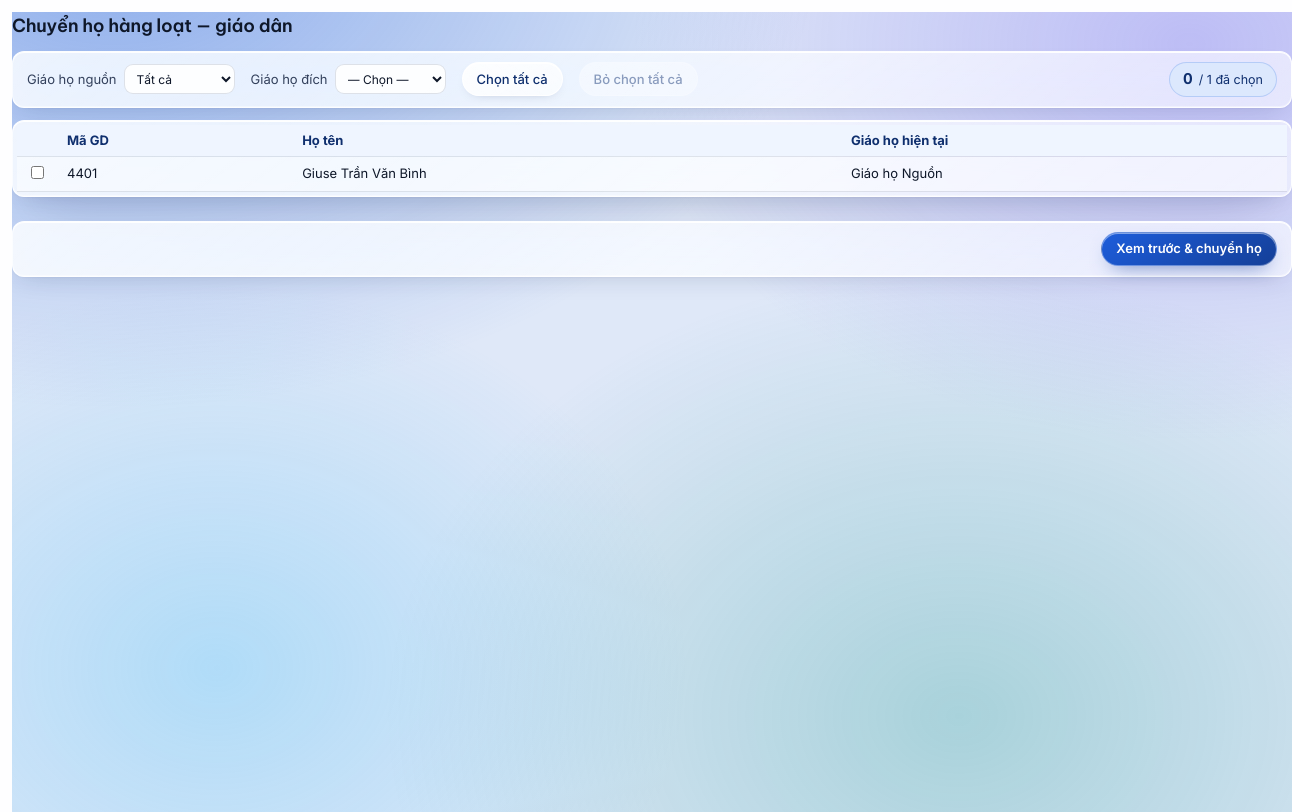
Test case: ChuyenHoGiaoDan › phai xem truoc va xac nhan dung con so truoc khi goi API ghi that
Expected: the text "Giuse Trần Văn Bình" is shown, top-left (292, 156), bottom-right (841, 191)
Click the checkbox named "Chọn Trần Văn Bình": (38, 172) top-left (31, 166), bottom-right (44, 179)
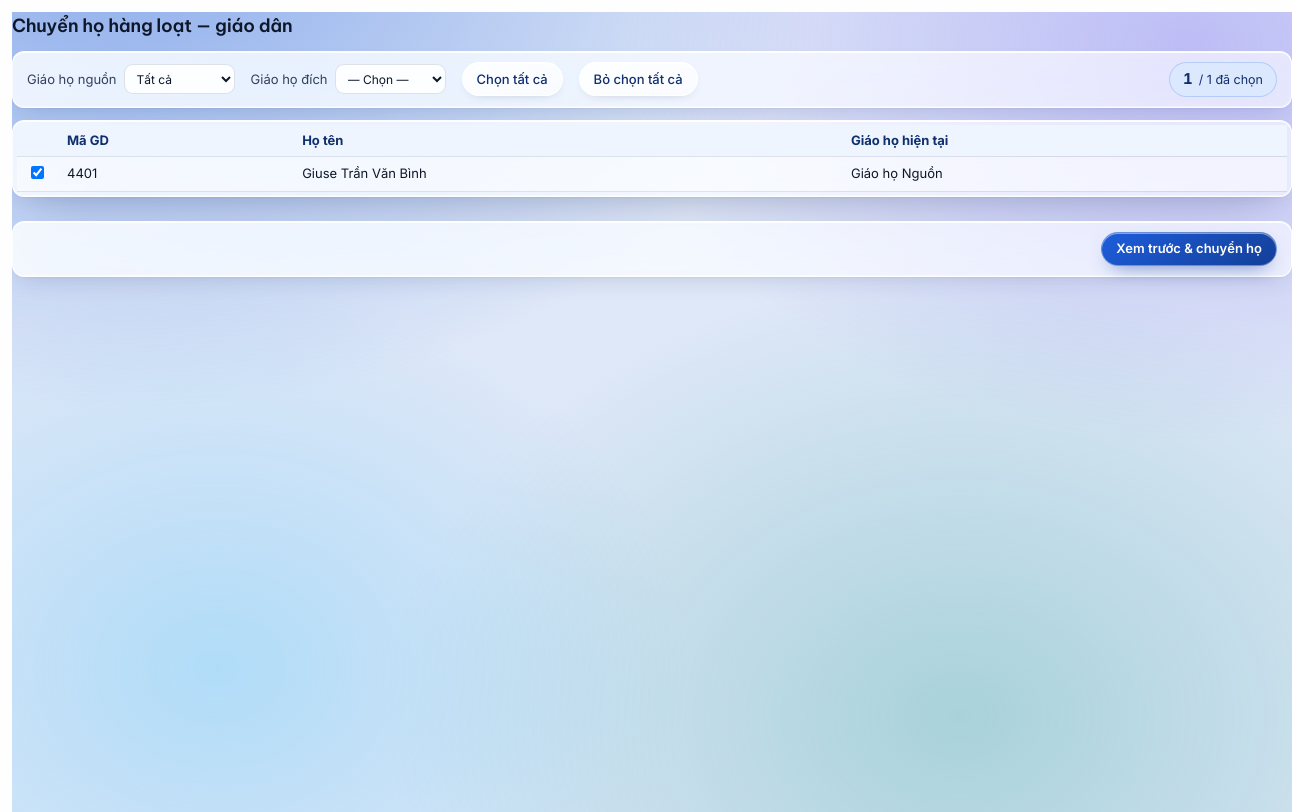
Select "Giáo họ Đích" in the dropdown labelled "Giáo họ đích": (390, 79) top-left (334, 64), bottom-right (446, 94)
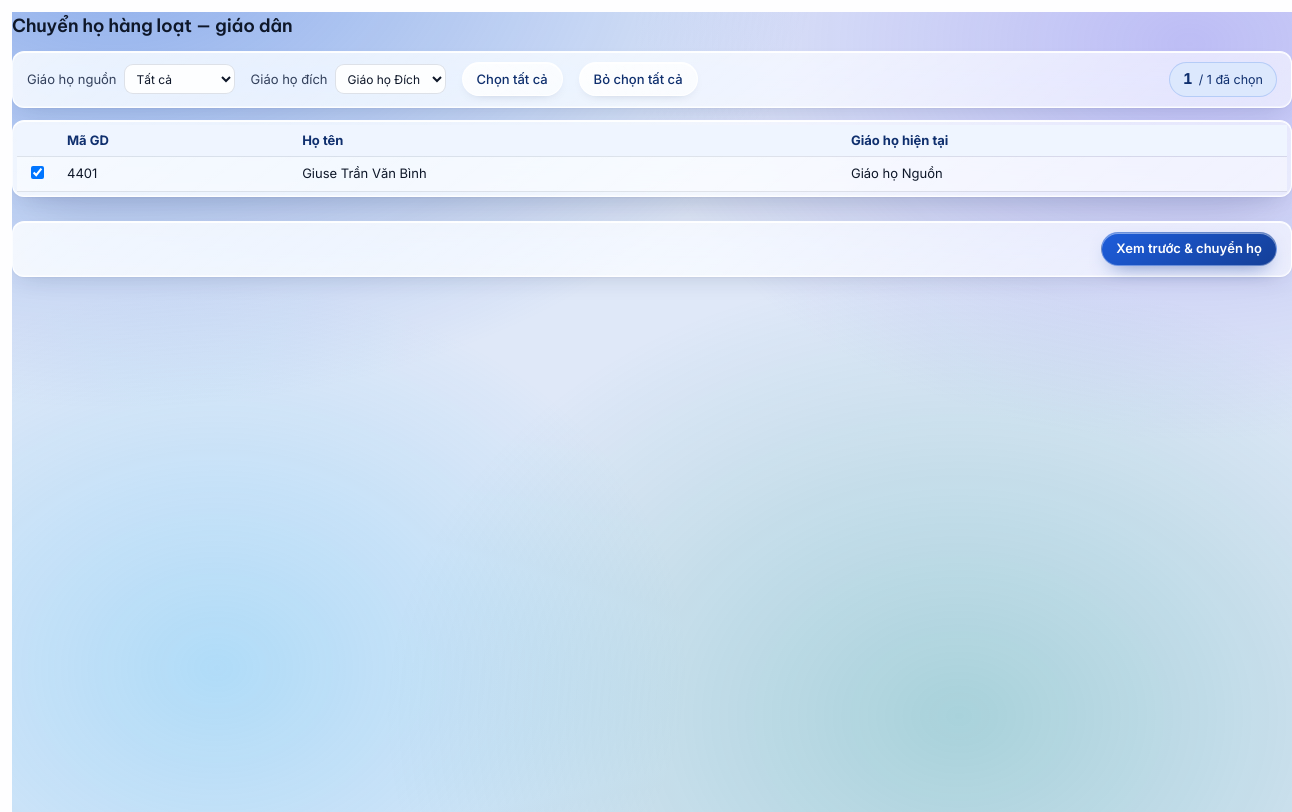
Click the button "Xem trước & chuyển họ": (1189, 248) top-left (1101, 232), bottom-right (1277, 266)
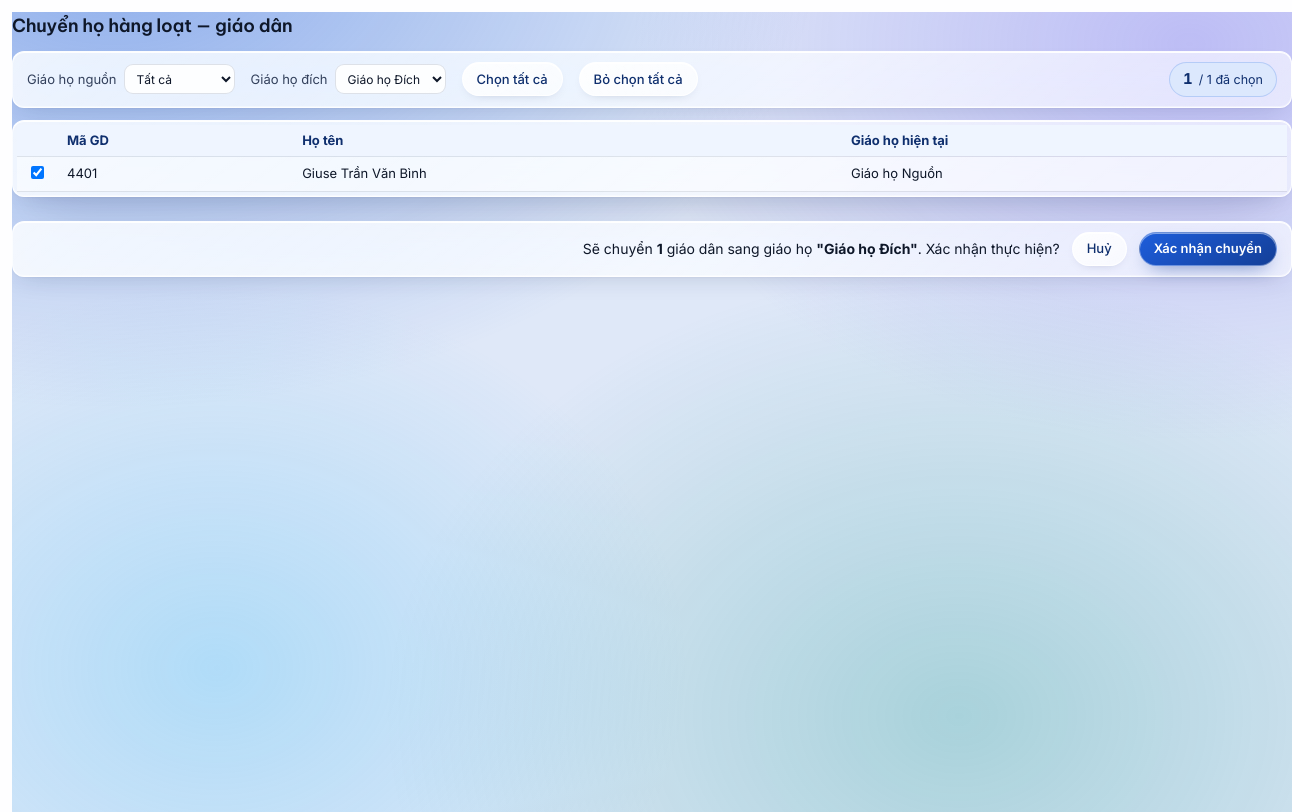
Expected: the text "Sẽ chuyển" is shown, top-left (583, 240), bottom-right (657, 257)
Expected: the text "Sẽ chuyển" shows "1", top-left (657, 240), bottom-right (663, 257)
Click the button "Xác nhận chuyển": (1208, 248) top-left (1139, 232), bottom-right (1277, 266)
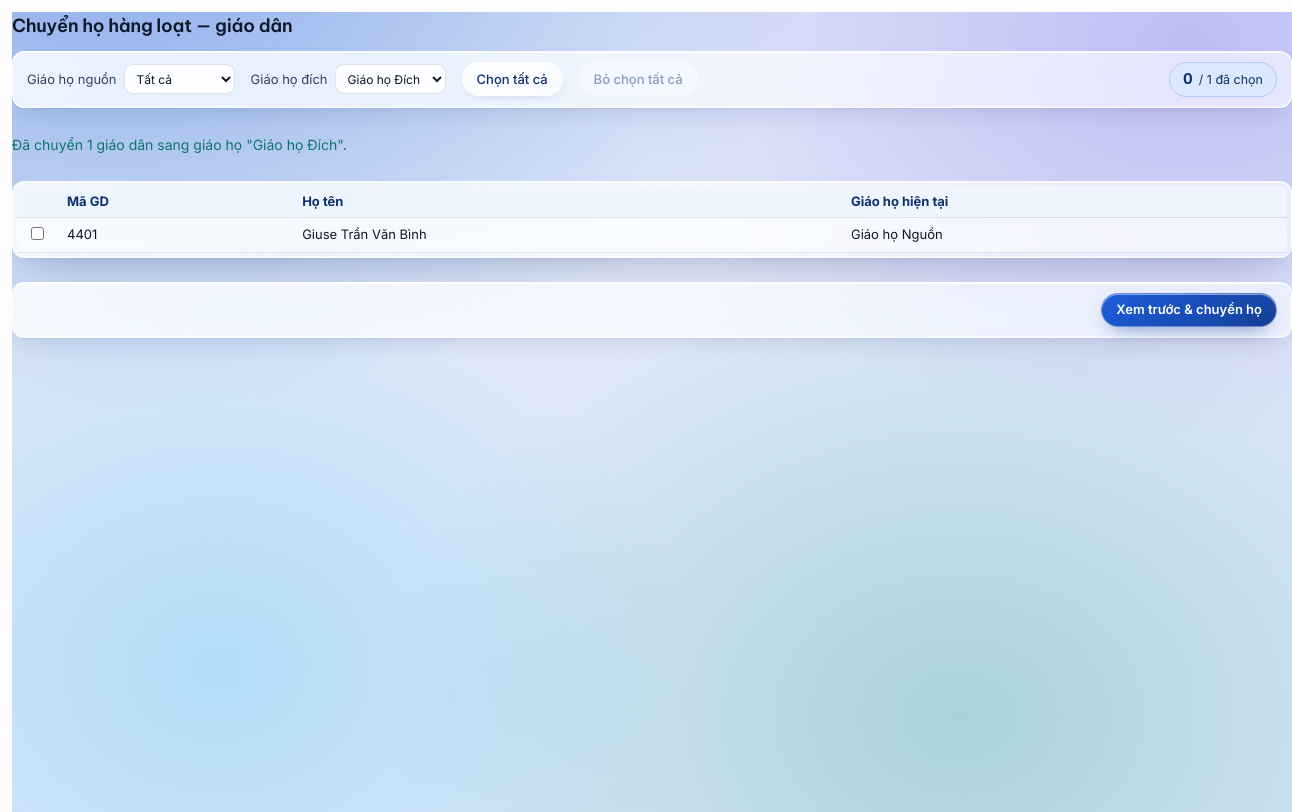
Expected: the text "Đã chuyển 1 giáo dân sang giáo họ \"Giáo họ Đích\"." is shown, top-left (12, 136), bottom-right (347, 152)
